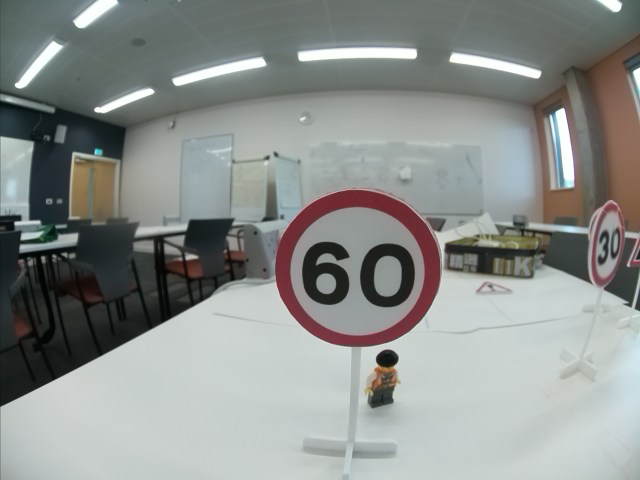30mph: (591, 201, 625, 286)
60mph: (273, 181, 443, 347)
Lego Man: (365, 349, 404, 408)
Warning: (476, 277, 512, 295)
